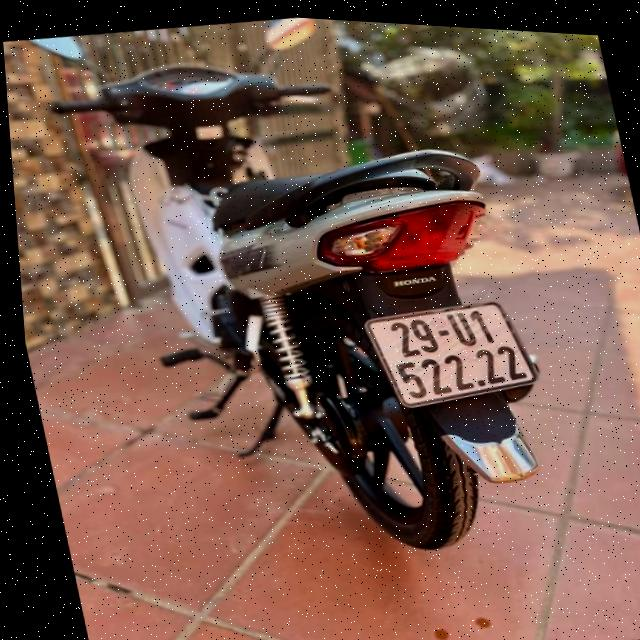motorcycle: (2, 0, 626, 624)
plate: (359, 283, 553, 424)
